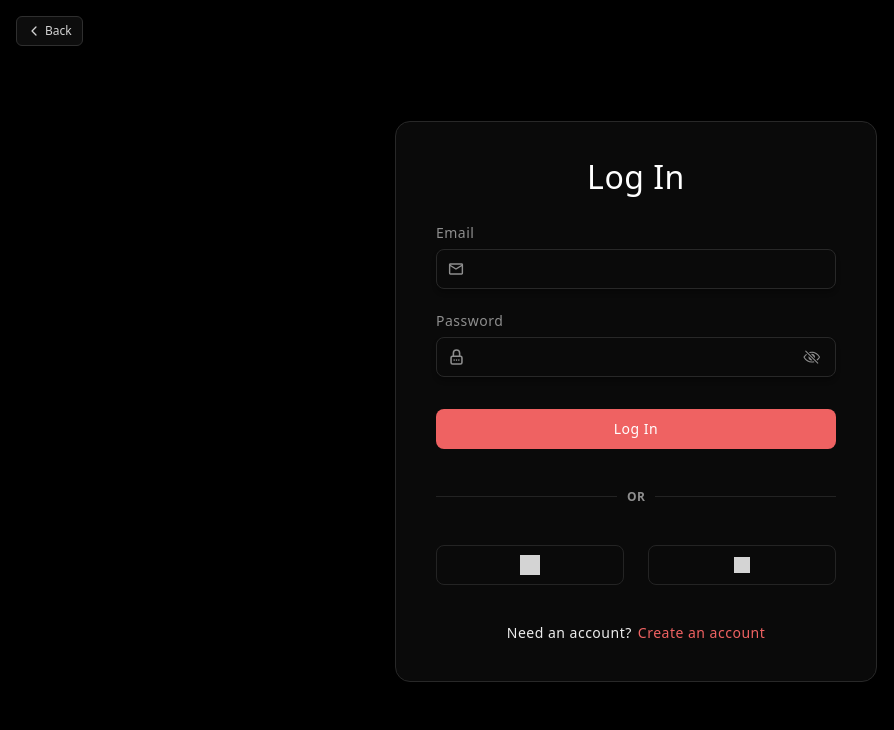
LogInContainer › Google OAuth Login › handles OAuth API error with friendly message
Click the button named "Sign in with Google" at x=530, y=564, box [436,544,624,584]
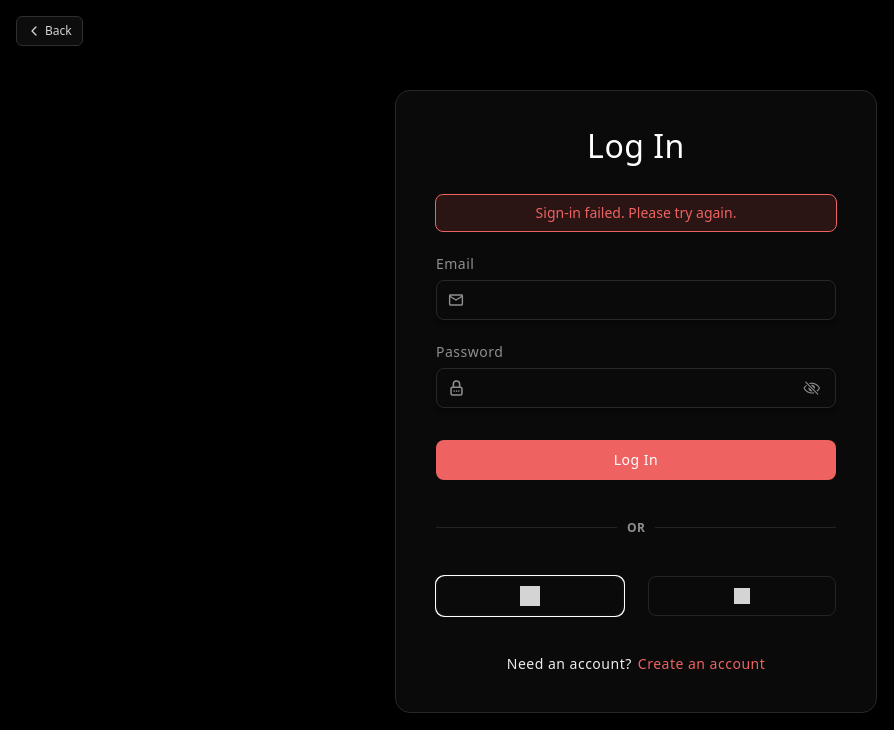
Expected: the text "Sign-in failed. Please try again." is shown, [435,194,837,232]
